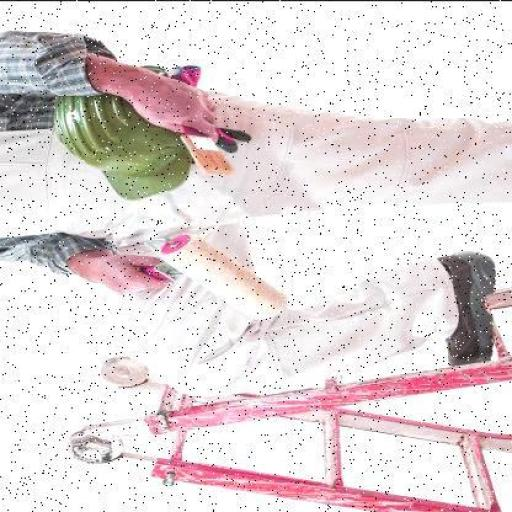safety_shoe: (435, 244, 502, 368)
